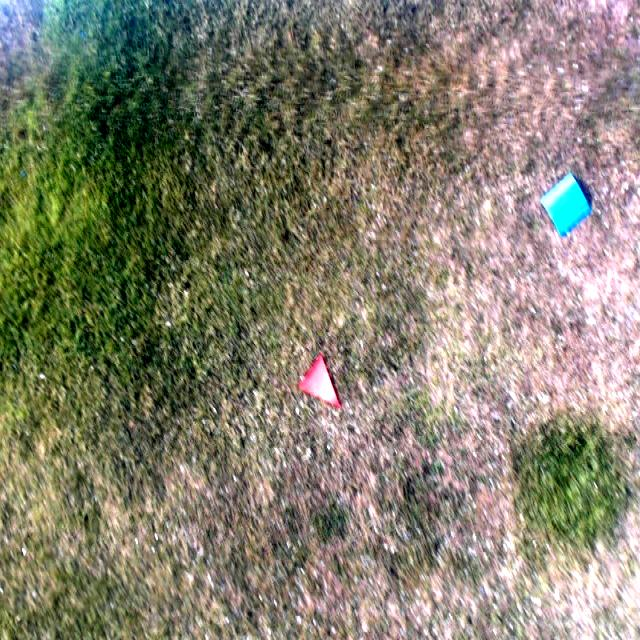blue_square: (539, 170, 592, 237)
red_triangle: (297, 352, 343, 414)
